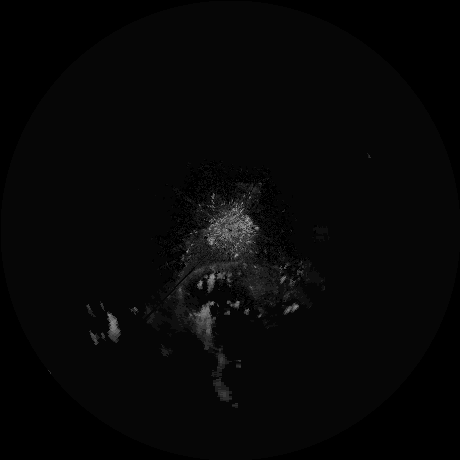frontgust: (179, 260, 242, 282)
